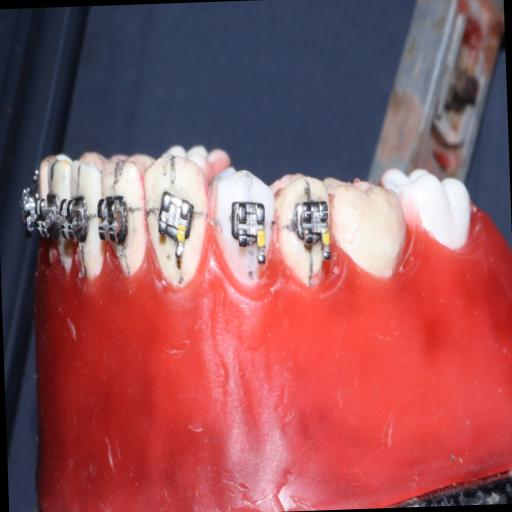incorrect_brace: (151, 184, 196, 261)
